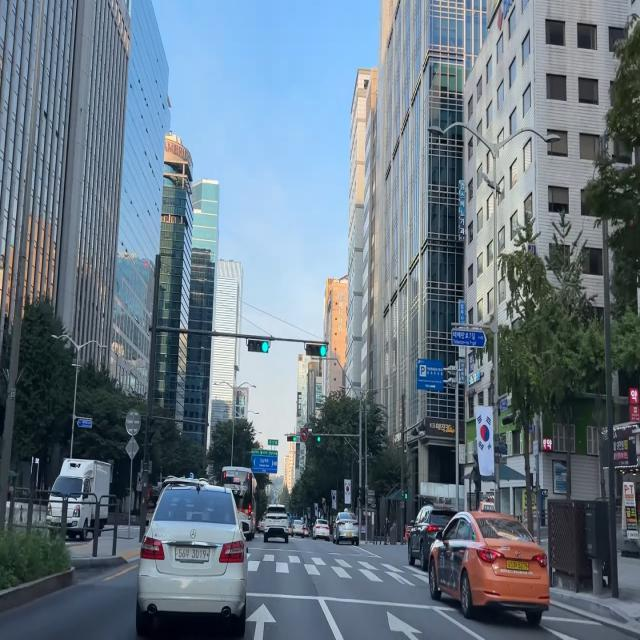Green Light: (261, 342, 269, 353), (319, 345, 326, 357)
